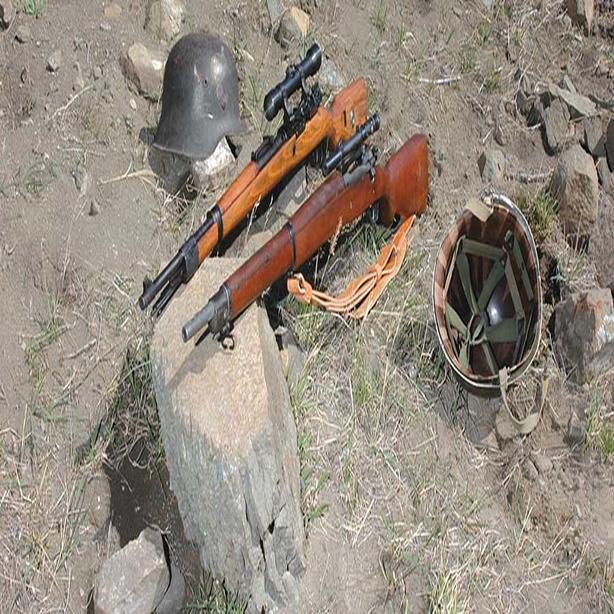Firearm: (96, 35, 448, 351)
